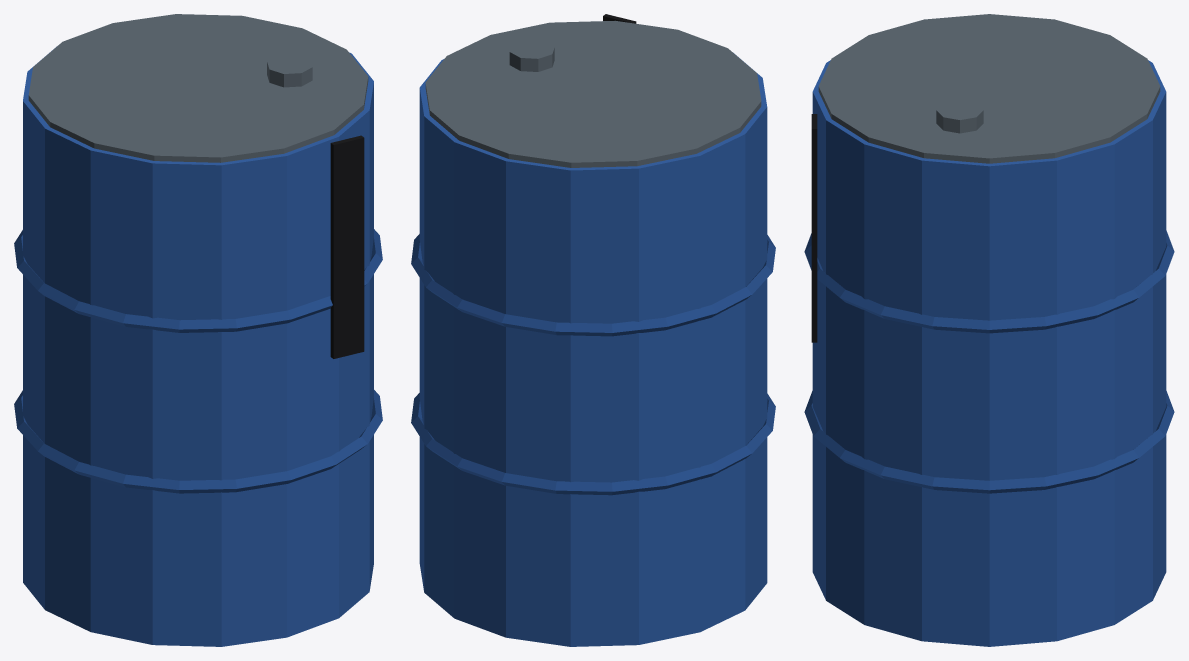
File: oil_drum.glb
The picture shows the model from 3 angles, left to right: view 1: azimuth 30°, elevation 25°; view 2: azimuth 150°, elevation 25°; view 3: azimuth 270°, elevation 25°; orthographic projection.
Visible parts, largest first — view 1: body_drum_blue, top_drum_top, rib_drum_rib, oil_oil_black, cap_drum_top; view 2: body_drum_blue, top_drum_top, rib_drum_rib, cap_drum_top; view 3: body_drum_blue, top_drum_top, rib_drum_rib, oil_oil_black, cap_drum_top.
Boxes of the visible parts, x1=… form: body_drum_blue: x1=23, y1=46, x2=373, y2=646; top_drum_top: x1=28, y1=14, x2=368, y2=162; rib_drum_rib: x1=14, y1=229, x2=382, y2=493; oil_oil_black: x1=330, y1=135, x2=364, y2=358; cap_drum_top: x1=267, y1=55, x2=312, y2=87; body_drum_blue: x1=419, y1=53, x2=767, y2=646; top_drum_top: x1=425, y1=20, x2=761, y2=167; rib_drum_rib: x1=411, y1=234, x2=775, y2=495; cap_drum_top: x1=509, y1=39, x2=554, y2=71; body_drum_blue: x1=812, y1=60, x2=1166, y2=646; top_drum_top: x1=818, y1=14, x2=1160, y2=163; rib_drum_rib: x1=804, y1=230, x2=1174, y2=493; oil_oil_black: x1=811, y1=114, x2=817, y2=342; cap_drum_top: x1=936, y1=100, x2=983, y2=133.
Size of the model in its own units: 0.628 by 0.935 by 0.628.
